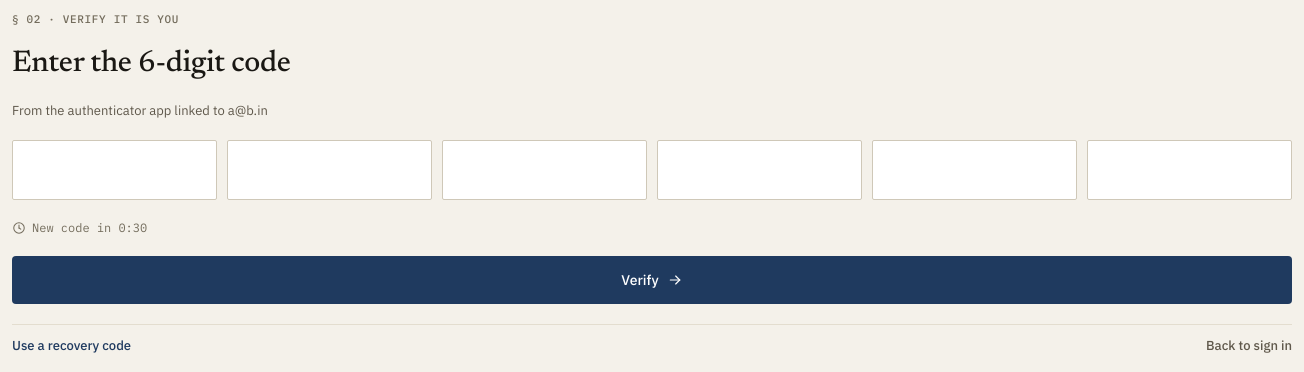
Scenario: VerifyForm › switches to a recovery code
This screenshot has width=1304, height=372.
Click the button "Use a recovery code": point(72, 346) [12,337,131,355]
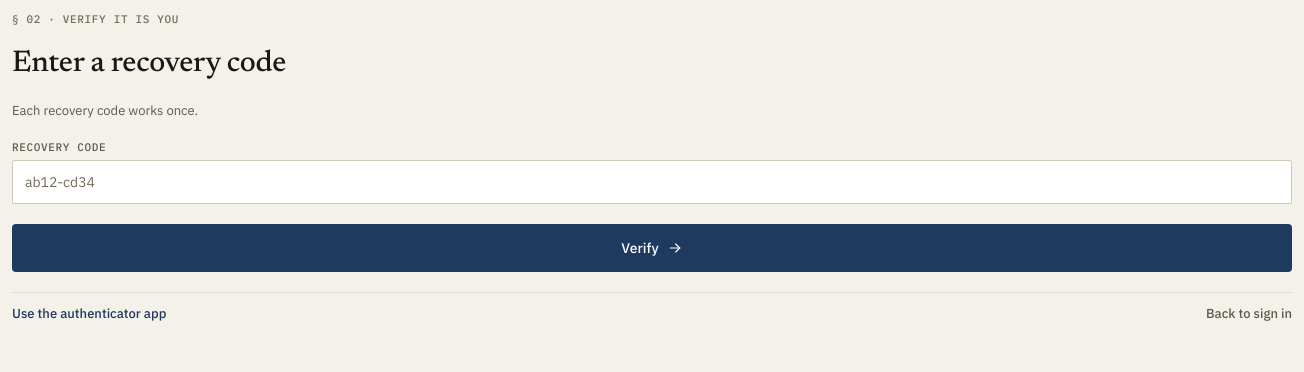
In the field labelled "Recovery code": point(652, 182) [25,172,1279,192], type "nope"
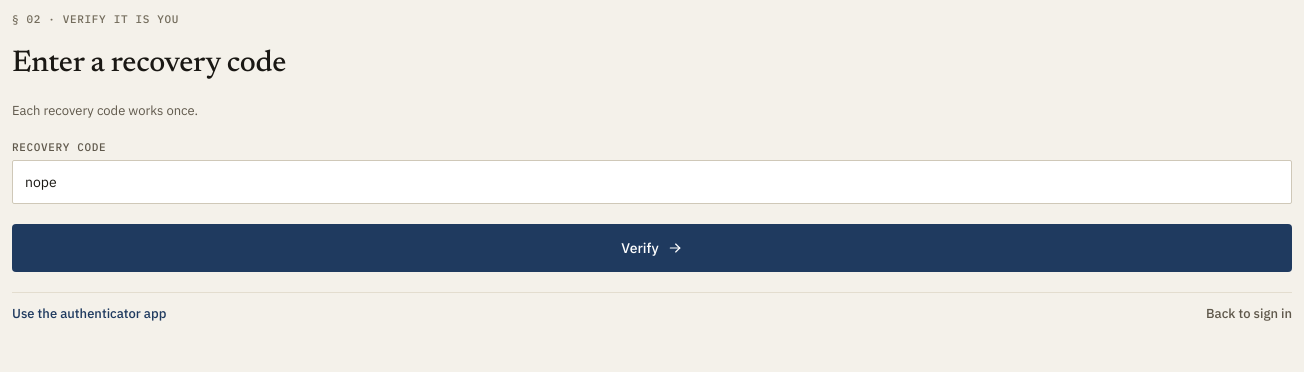
Click the button "Verify": point(652, 248) [12,224,1292,272]
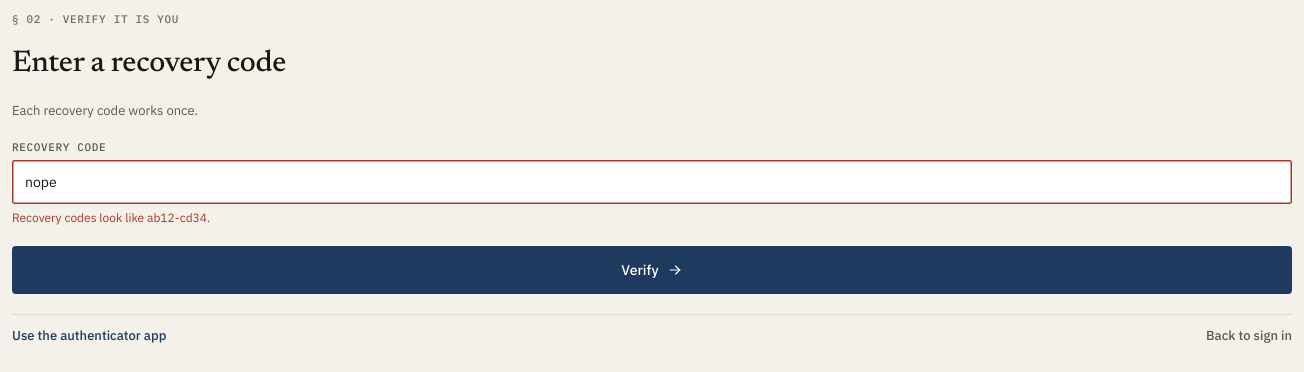
Expected: the text "Recovery codes look like ab12-cd34." is shown, [12,210,210,225]
